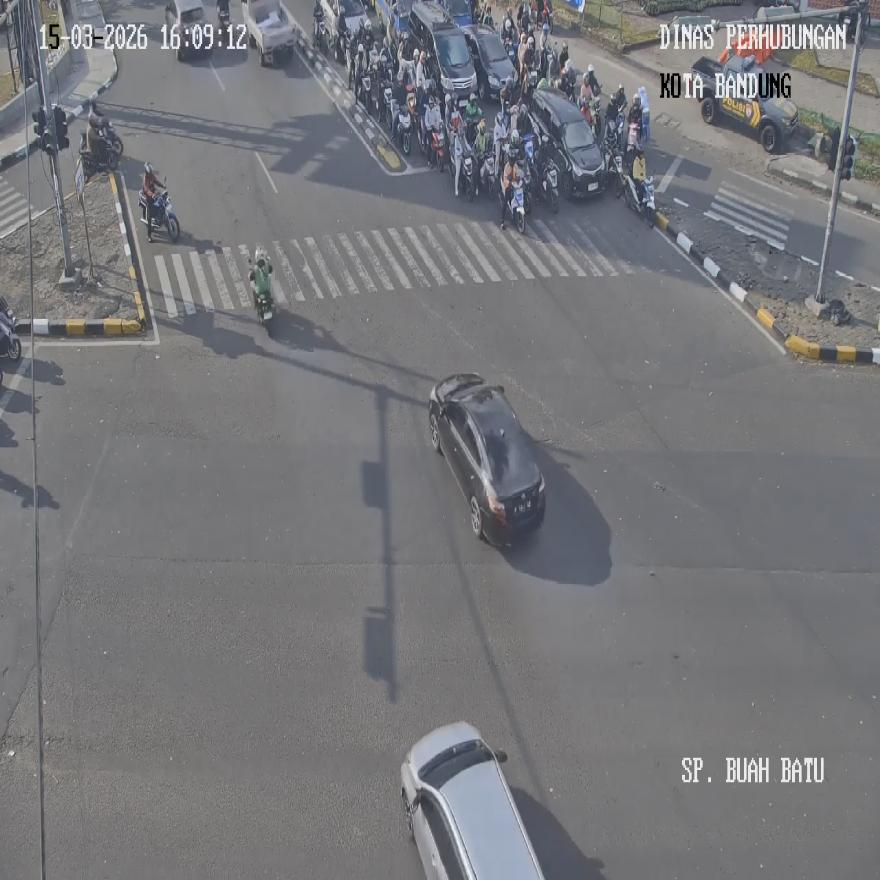Mobil: (400, 721, 545, 879), (428, 371, 544, 542), (689, 48, 798, 152), (244, 0, 297, 66)
Motor: (139, 186, 179, 242), (83, 121, 123, 172), (250, 260, 275, 332), (624, 174, 654, 228), (536, 146, 559, 212), (454, 138, 476, 202), (0, 298, 21, 360), (505, 178, 526, 233), (392, 103, 412, 155), (424, 125, 446, 171), (606, 144, 624, 196), (479, 148, 497, 198), (380, 78, 396, 134), (216, 1, 231, 46)
